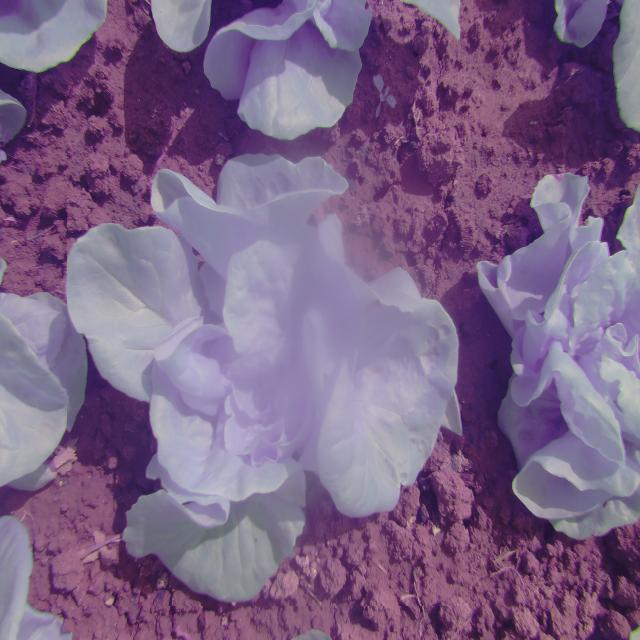vege: (68, 146, 468, 606)
